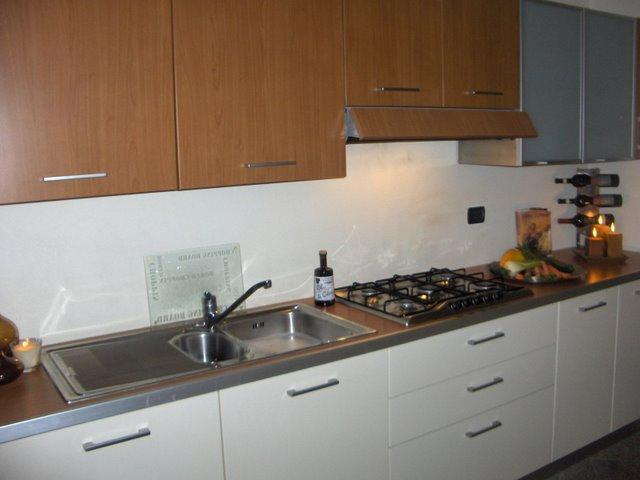Electrodomestico: (354, 263, 546, 343)
Lavaplatos: (192, 283, 375, 368)
